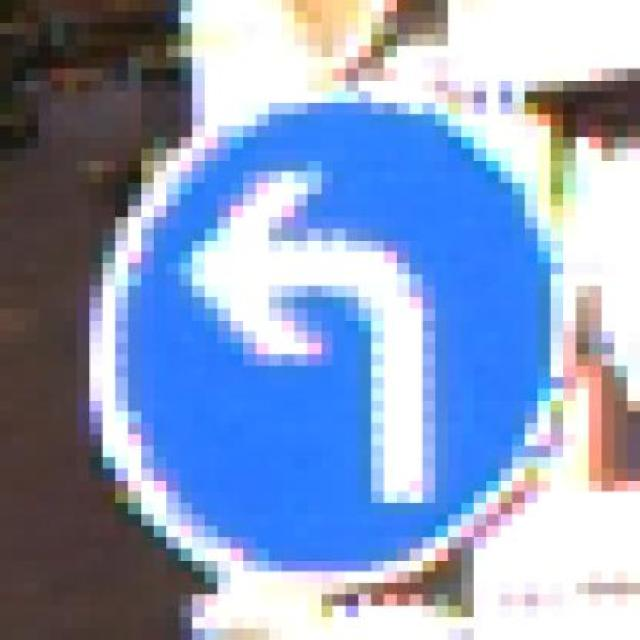Turn left ahead: (65, 103, 563, 606)
